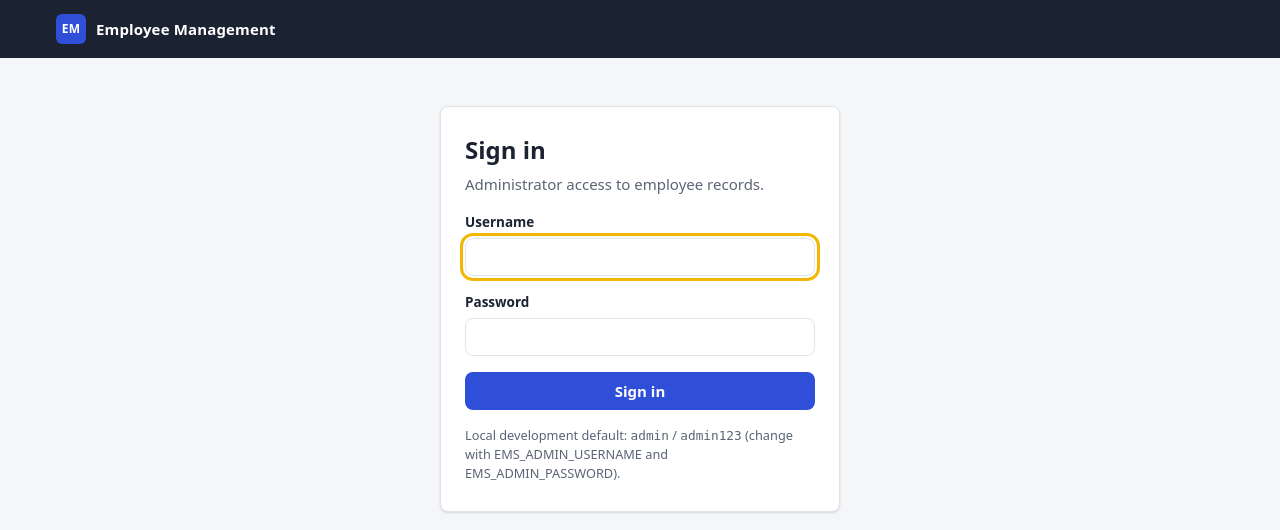
it: login and logout › signs in and returns to the page that was originally requested
This screenshot has width=1280, height=530.
Type "admin" into the field labelled "Username".
click(640, 257); type("admin")  # box [465,238,815,276]
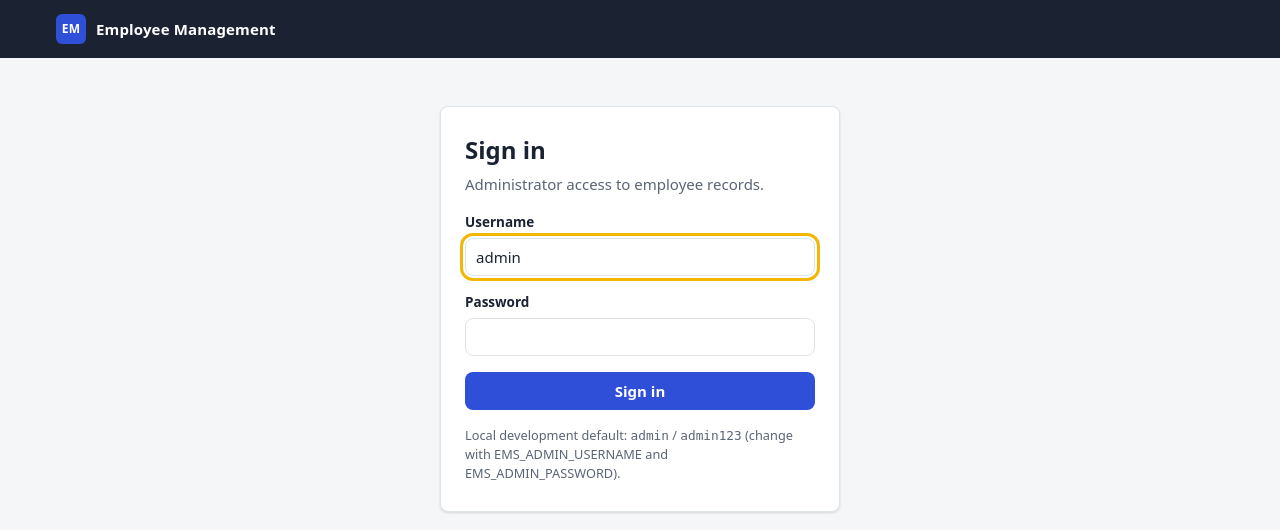
Type "admin123" into the password field labelled "Password".
click(640, 337); type("admin123")  # box [465,318,815,356]
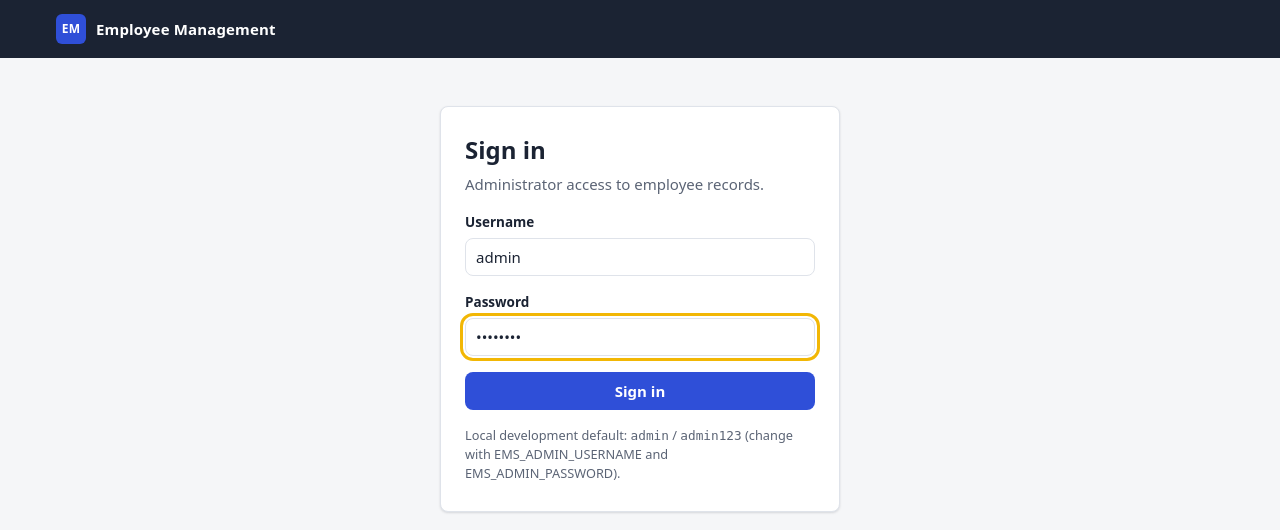
Click the button "Sign in".
click(640, 391)  # box [465,372,815,410]
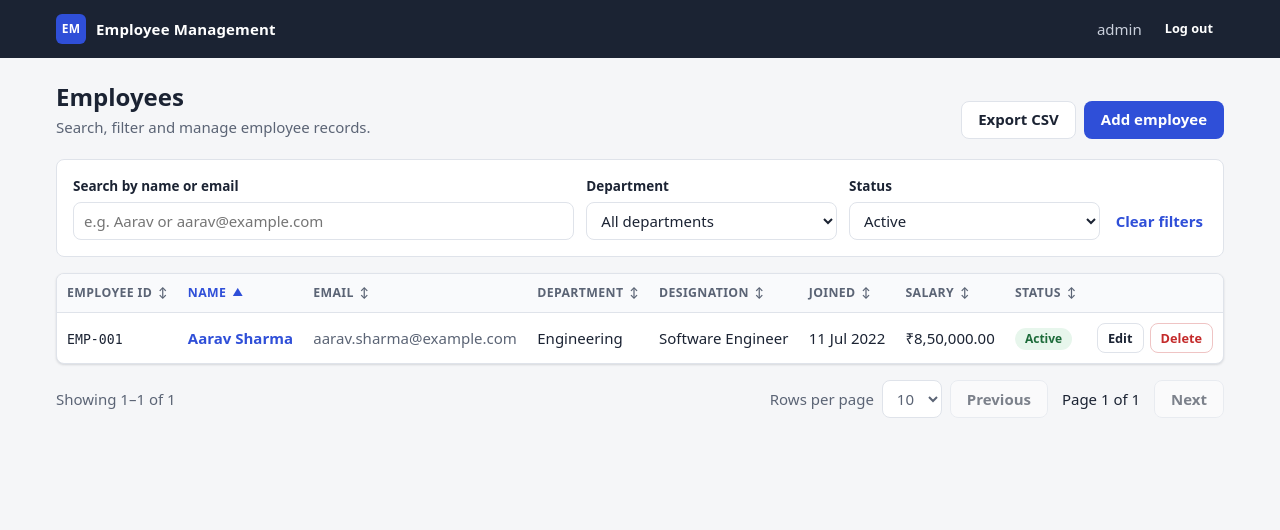
Expected: the link "Aarav Sharma" is shown, [188,328,293,348]
Expected: the button "Log out" is shown, [1154,14,1224,44]
